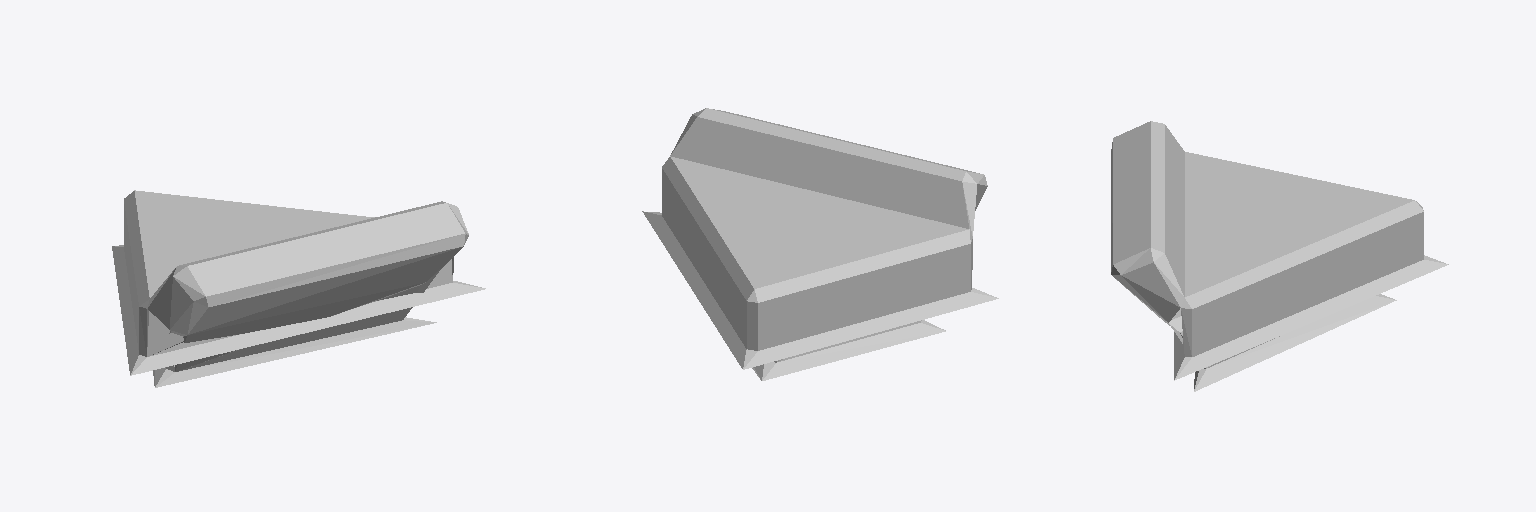
The picture shows the model from 3 angles: view 1: azimuth 30°, elevation 25°; view 2: azimuth 150°, elevation 25°; view 3: azimuth 270°, elevation 25°; orthographic projection.
Visible parts, largest first — view 1: PizzaSlice; view 2: PizzaSlice; view 3: PizzaSlice.
Boxes of the visible parts, <box> form: PizzaSlice: <box>112,190,485,387</box>; PizzaSlice: <box>642,108,998,380</box>; PizzaSlice: <box>1111,121,1448,391</box>.
Size of the model in its own units: 1.96 by 0.7343 by 1.61.